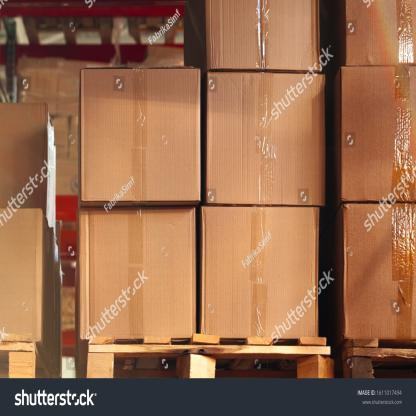box: (79, 65, 202, 204), (78, 207, 198, 341), (199, 206, 320, 338), (207, 72, 326, 204), (343, 200, 416, 342), (341, 66, 416, 202), (209, 0, 320, 71), (0, 207, 41, 345), (345, 0, 416, 65)
